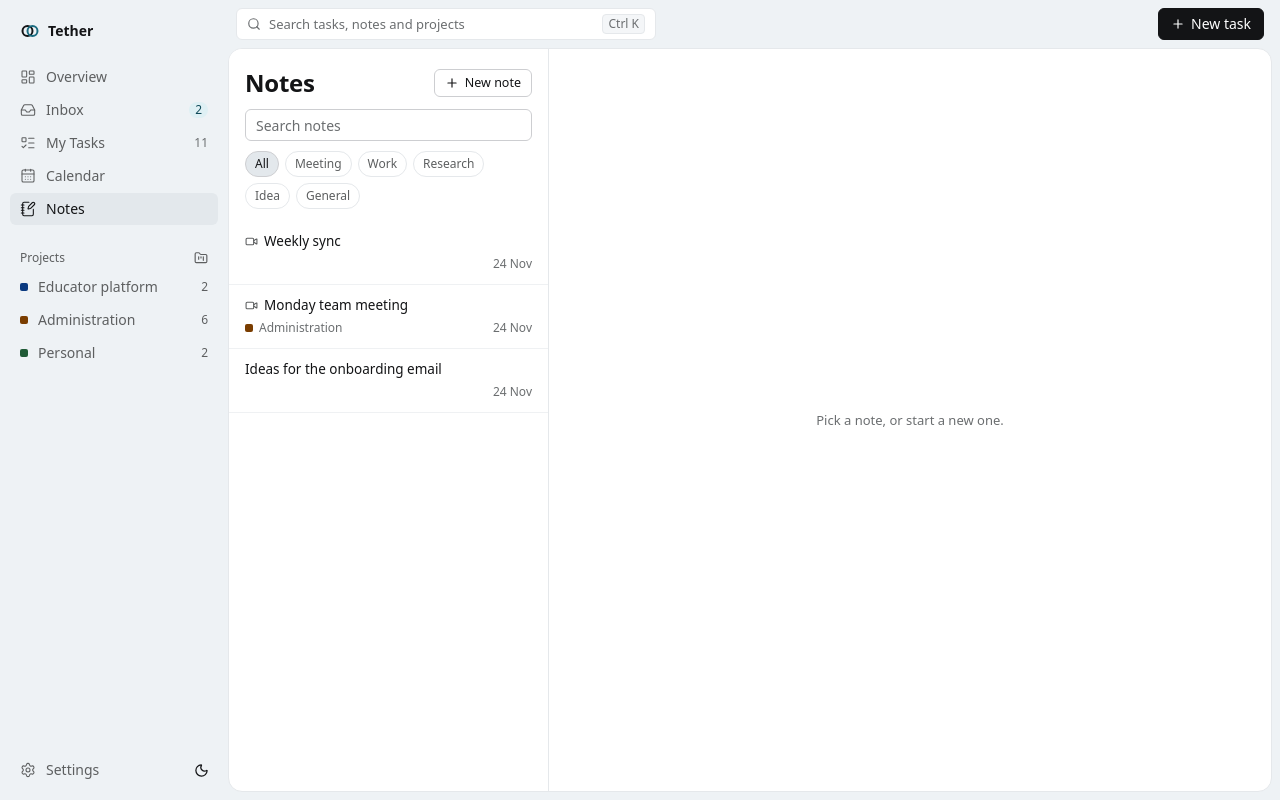
Test case: Notes › New note opens an empty editor
What coordinates should you click on to do the following:
click the button "New note"
I would click on:
 (483, 83)
Its box is x1=434 y1=69 x2=532 y2=97.
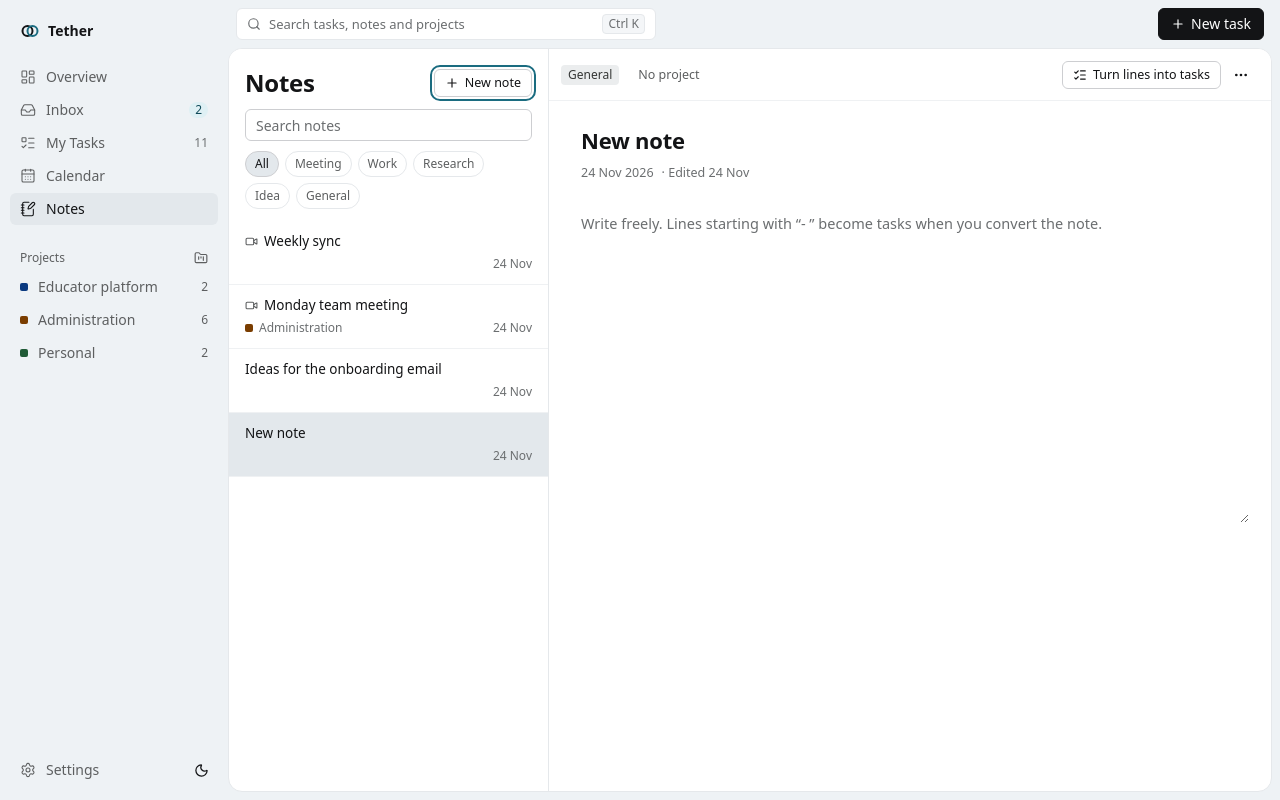
Check: the field named "Note title" holds "New note", box x1=577 y1=125 x2=1235 y2=155
